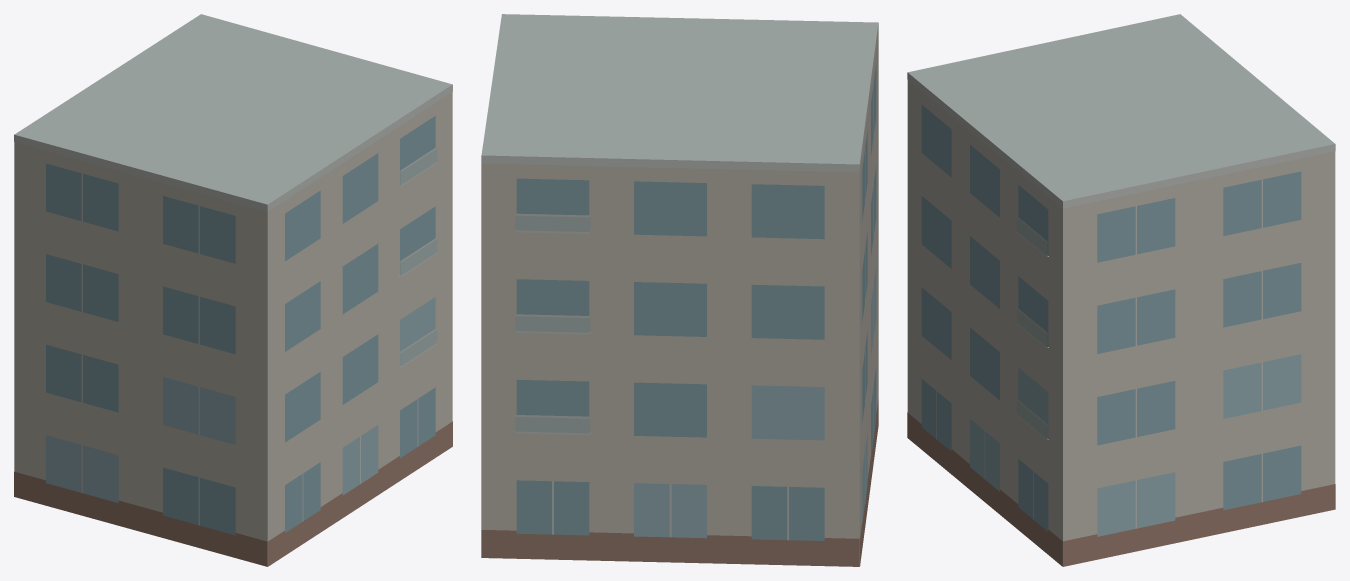
File: survey-upis-32680971.glb
3 renders of one model, left to right at view 1: azimuth 30°, elevation 25°; view 2: azimuth 150°, elevation 25°; view 3: azimuth 270°, elevation 25°, orthographic. The views are drawn at different scales.
Parts seen in each view (by area): view 1: survey-upis-32680971.tmp; view 2: survey-upis-32680971.tmp; view 3: survey-upis-32680971.tmp.
Part boxes in pixels (x1,y1,x2,y2): survey-upis-32680971.tmp: (14,14,452,566); survey-upis-32680971.tmp: (481,14,878,566); survey-upis-32680971.tmp: (907,14,1335,566).
Size of the model in its own units: 13.42 by 12.2 by 12.95.
